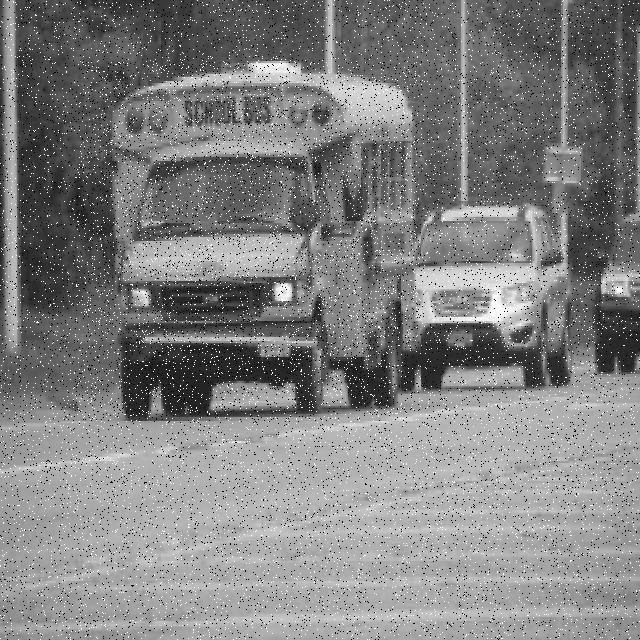Bus- Small: (76, 62, 419, 422)
